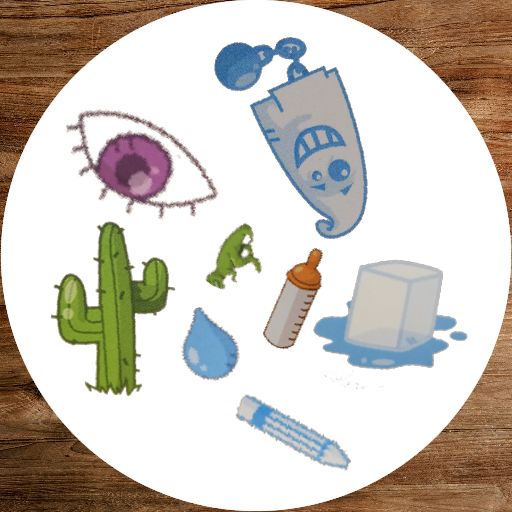bottle_icon: (242, 244, 352, 354)
cactus_icon: (17, 220, 201, 404)
cube_icon: (308, 224, 476, 392)
dino_icon: (195, 220, 265, 290)
eye_icon: (60, 81, 224, 245)
ghost_icon: (185, 17, 419, 251)
pen_icon: (233, 374, 355, 496)
raindrop_icon: (171, 306, 247, 382)
